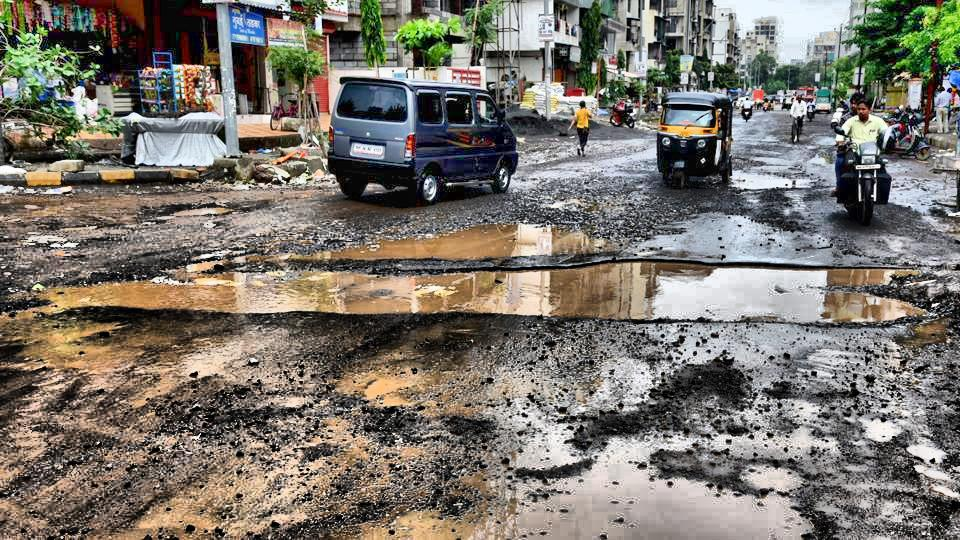pothole: (60, 255, 960, 336), (335, 465, 836, 537), (316, 221, 623, 266)
